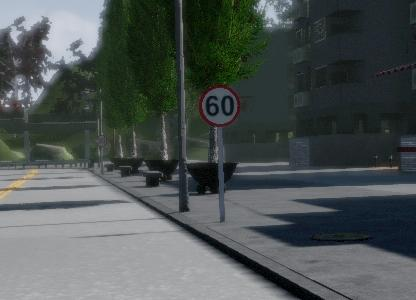Speed_60: (233, 77, 280, 127)
